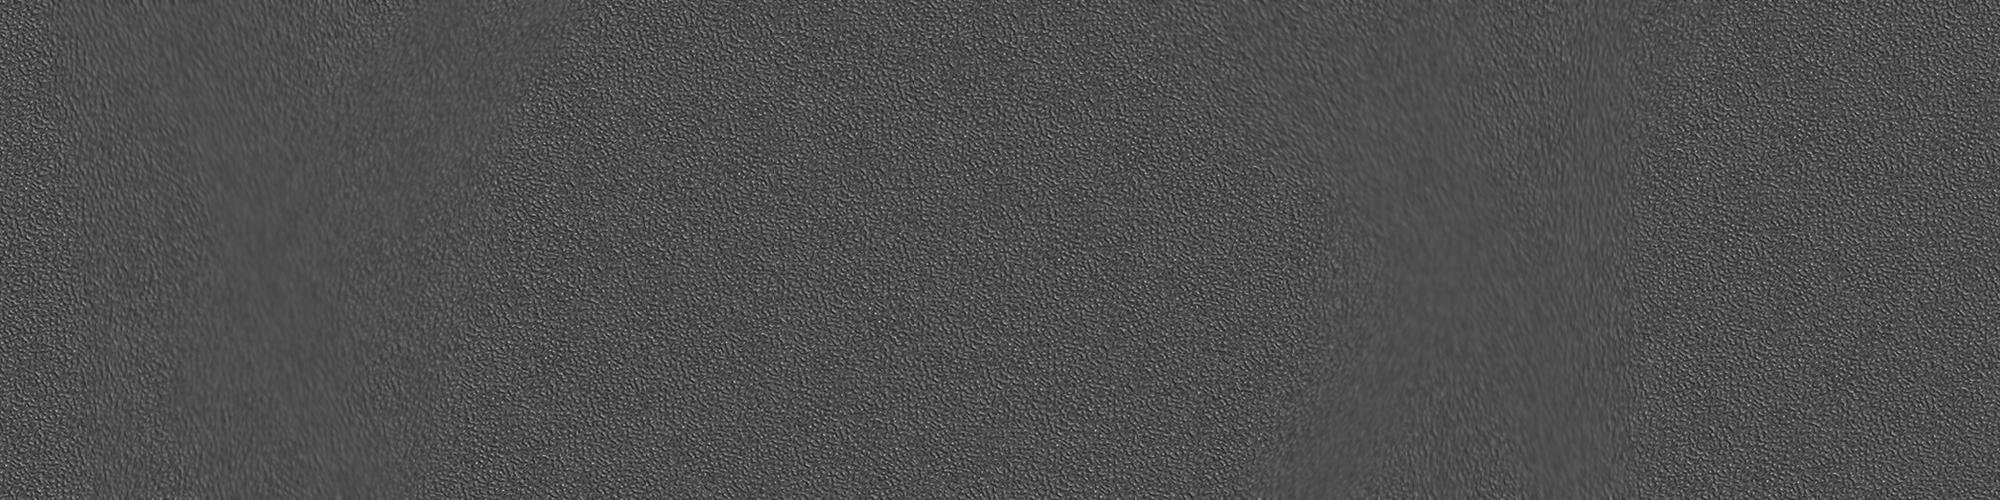Flow_Lines: (62, 11, 445, 492)
